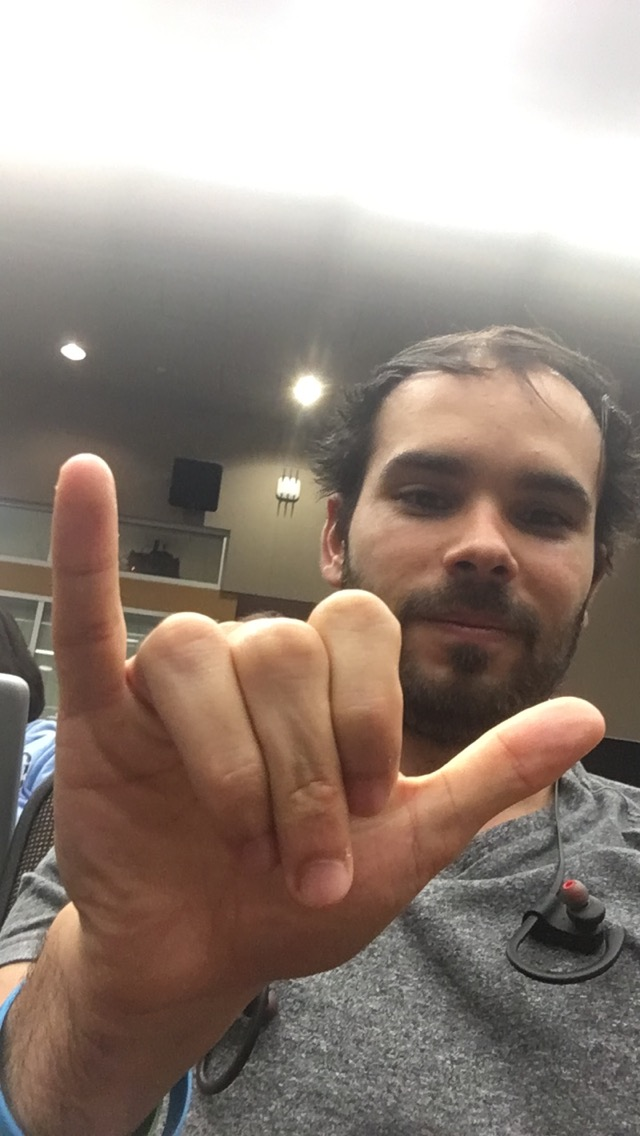defaultd: (52, 453, 608, 997)
